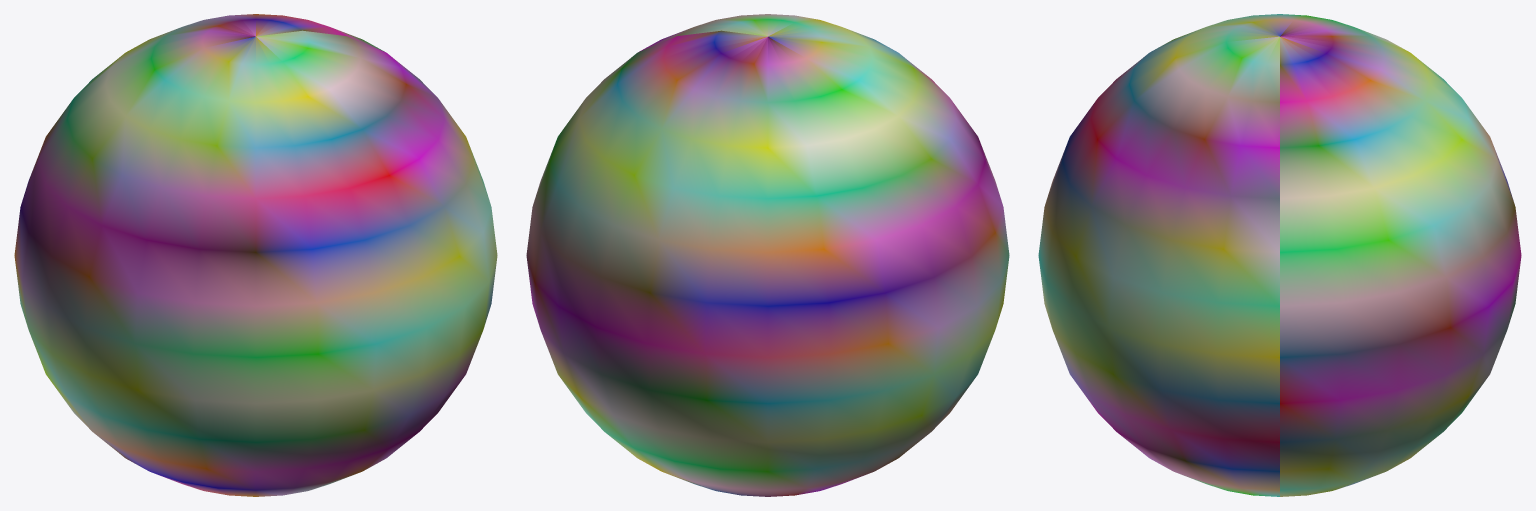
The model's file is vertex-colors.gltf.
3 renders of one model, left to right at view 1: azimuth 30°, elevation 25°; view 2: azimuth 150°, elevation 25°; view 3: azimuth 270°, elevation 25°, orthographic.
Bounding box in the file's own units: 2 × 2 × 2.
